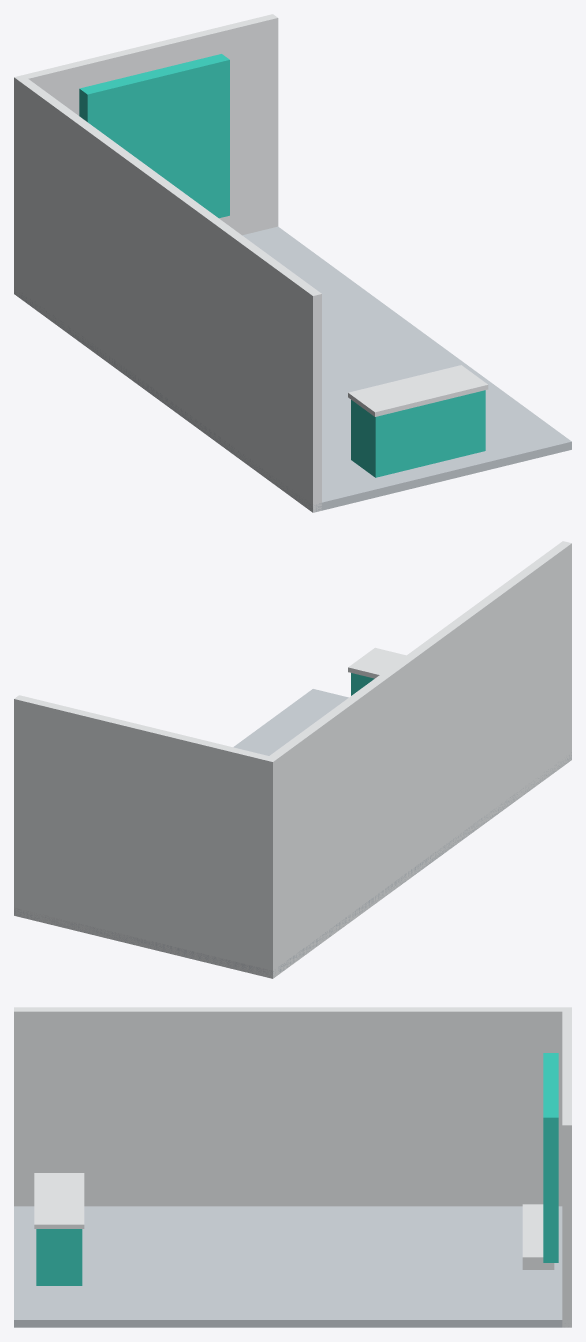
3 views of the same model, one above another, from view 1: azimuth 30°, elevation 25°; view 2: azimuth 150°, elevation 25°; view 3: azimuth 270°, elevation 25° (orthographic). The views are drawn at different scales.
Parts seen in each view (by area): view 1: Exhibition Booth Concept; view 2: Exhibition Booth Concept; view 3: Exhibition Booth Concept.
Part boxes in pixels (bbox=[...]): Exhibition Booth Concept: bbox=[14, 14, 571, 512]; Exhibition Booth Concept: bbox=[14, 541, 571, 978]; Exhibition Booth Concept: bbox=[14, 1007, 571, 1327].
Size of the model in its own units: 4 by 3.2 by 8.
